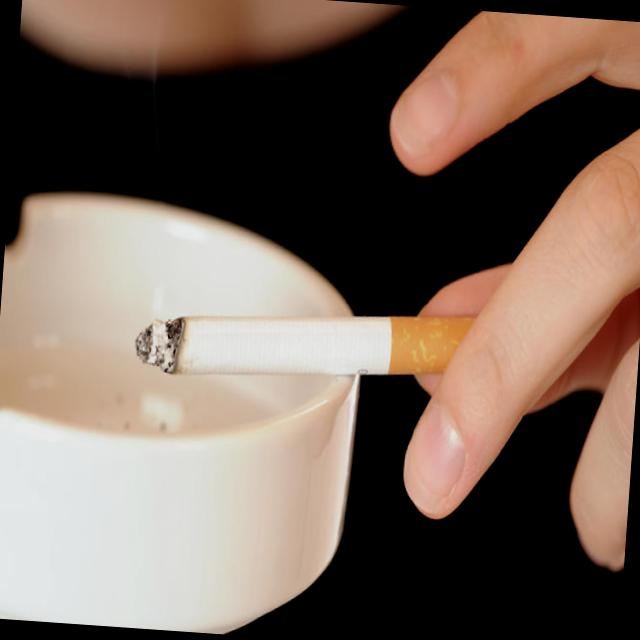cigarette: (130, 276, 524, 408)
